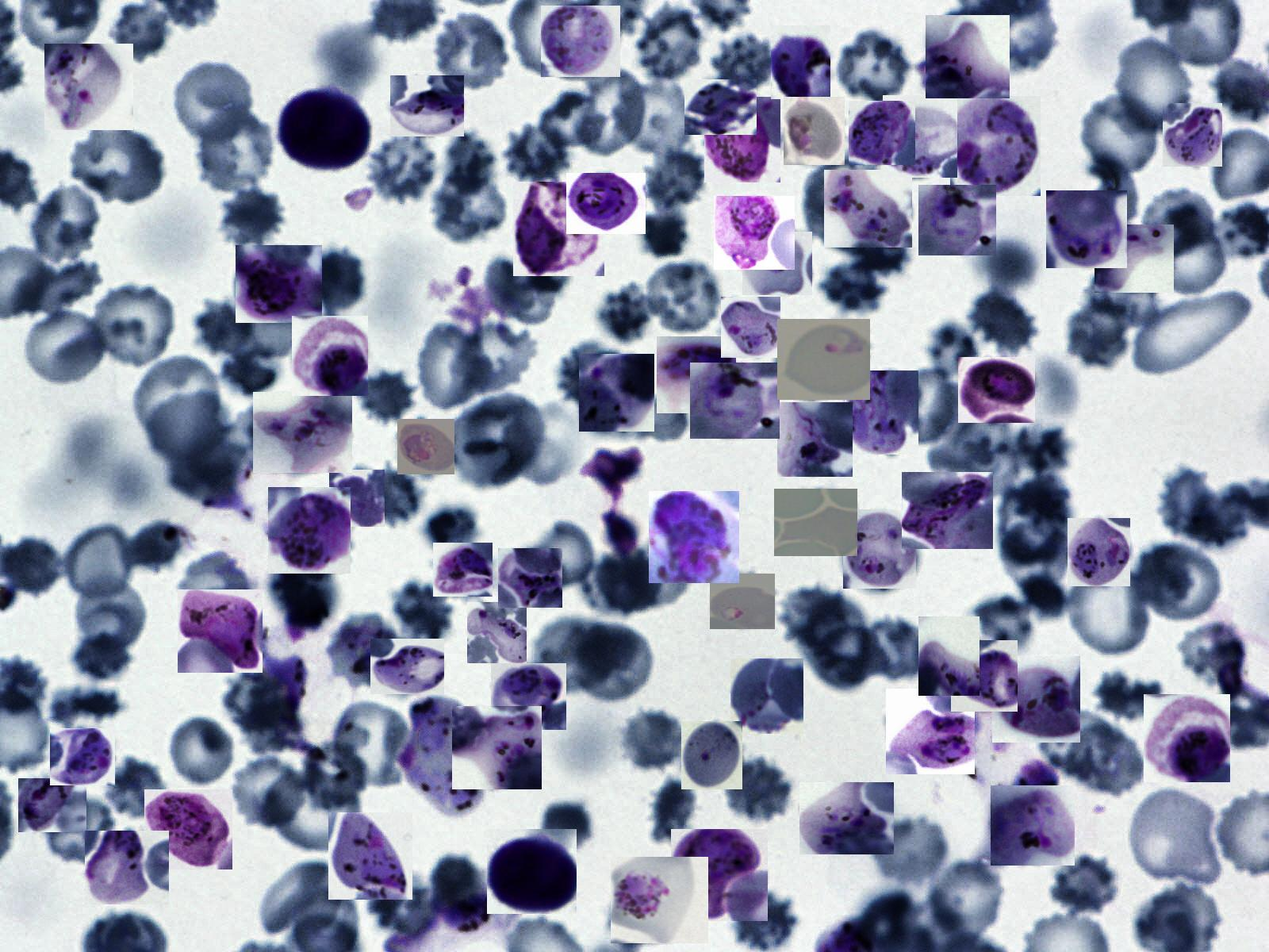Infected: (954, 693, 1059, 805), (259, 616, 335, 757), (399, 696, 485, 816), (205, 466, 288, 579), (950, 96, 1041, 196), (671, 829, 768, 921), (513, 182, 604, 276), (611, 857, 709, 943), (649, 492, 739, 584), (278, 84, 372, 171), (253, 392, 352, 473), (992, 656, 1080, 743), (44, 44, 133, 130), (487, 829, 577, 914), (1144, 694, 1230, 782), (886, 689, 975, 774), (777, 319, 870, 400), (452, 706, 542, 789), (328, 812, 412, 900), (381, 896, 512, 952), (268, 487, 351, 574), (178, 589, 263, 673), (144, 789, 232, 869), (902, 472, 993, 549), (926, 15, 1010, 98), (824, 170, 912, 248), (799, 782, 894, 854), (690, 363, 780, 439), (991, 785, 1075, 866), (236, 245, 322, 323), (704, 97, 780, 182), (1046, 190, 1127, 268), (845, 370, 918, 455), (883, 95, 957, 178), (85, 831, 169, 904), (658, 336, 737, 413), (292, 316, 368, 396), (714, 196, 795, 270), (579, 354, 654, 432), (843, 509, 916, 589), (777, 402, 853, 477), (541, 6, 620, 77), (774, 489, 857, 556), (730, 658, 803, 734), (918, 185, 996, 255), (1095, 225, 1174, 293), (491, 663, 566, 730), (958, 358, 1035, 423), (918, 616, 980, 696), (566, 173, 646, 234), (951, 640, 1018, 712), (390, 75, 464, 136), (742, 232, 812, 295), (771, 25, 830, 99), (849, 101, 915, 165), (1068, 518, 1130, 586), (784, 97, 845, 165), (681, 721, 742, 789), (684, 79, 757, 135), (370, 639, 444, 694), (498, 548, 562, 608), (1163, 104, 1222, 167), (50, 728, 115, 785), (18, 778, 86, 832), (467, 602, 527, 663), (721, 297, 780, 358), (710, 574, 775, 629), (433, 543, 493, 597), (329, 470, 385, 527), (397, 419, 454, 474)
Uninfected: (1130, 288, 1255, 374), (1126, 783, 1224, 889), (1065, 559, 1156, 658), (450, 392, 545, 486), (1112, 31, 1198, 134), (69, 121, 168, 207), (134, 351, 223, 446), (410, 320, 500, 413), (328, 695, 417, 789), (263, 770, 362, 852), (87, 280, 180, 367), (1134, 539, 1226, 624), (1145, 207, 1229, 298), (20, 306, 113, 387), (65, 576, 151, 662), (172, 58, 255, 146), (1079, 90, 1161, 179), (866, 808, 952, 892), (489, 239, 573, 325), (196, 106, 274, 192), (1060, 286, 1138, 370), (225, 752, 307, 831), (167, 428, 251, 505), (60, 522, 138, 604), (534, 615, 620, 689), (577, 624, 656, 704), (450, 325, 539, 396), (804, 161, 880, 244), (613, 83, 700, 155), (325, 612, 401, 690), (646, 259, 723, 335), (433, 15, 513, 88), (577, 68, 643, 155), (829, 32, 911, 101), (1066, 727, 1145, 798), (167, 714, 239, 791), (1141, 185, 1215, 259), (179, 554, 251, 628), (33, 185, 101, 263), (638, 2, 703, 83), (237, 286, 312, 356), (933, 862, 1003, 937), (431, 171, 507, 240), (45, 798, 119, 863), (897, 367, 957, 447), (859, 616, 930, 683), (523, 520, 595, 585), (723, 757, 792, 824), (370, 136, 439, 203), (968, 294, 1047, 351), (1050, 854, 1119, 919), (619, 708, 688, 772), (504, 122, 572, 185), (390, 582, 451, 649), (217, 185, 286, 244), (538, 90, 608, 148), (104, 754, 169, 816), (554, 342, 620, 403), (730, 890, 796, 951), (596, 282, 660, 342), (305, 248, 366, 309), (646, 148, 707, 209), (714, 36, 776, 94), (362, 467, 423, 525), (354, 370, 417, 423)
